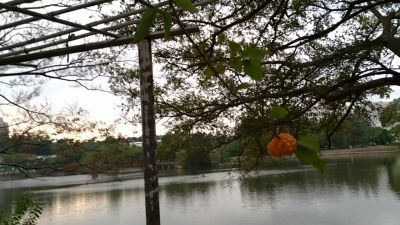eggs: (267, 132, 298, 159)
